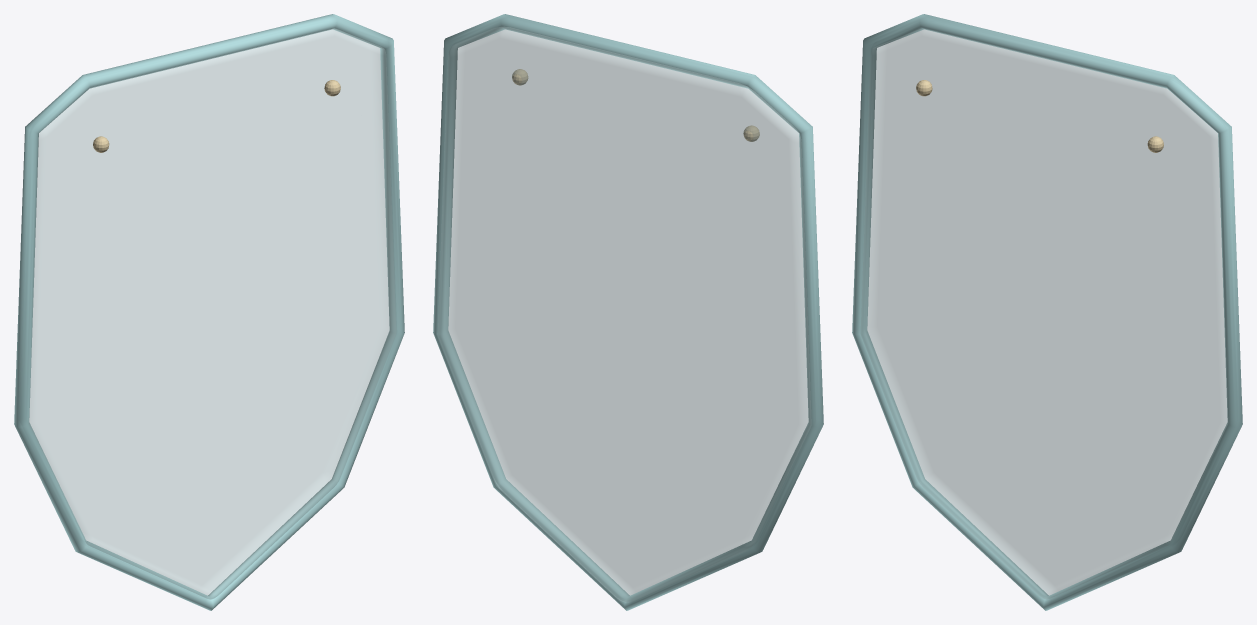
The model's file is acrylic_shield.glb.
3 renders of one model, left to right at view 1: azimuth 30°, elevation 25°; view 2: azimuth 150°, elevation 25°; view 3: azimuth 330°, elevation 25°, orthographic.
Parts seen in each view (by area): view 1: Acrylic shield clear body, Acrylic edge; view 2: Acrylic shield clear body, Acrylic edge; view 3: Acrylic shield clear body, Acrylic edge.
Part boxes in pixels (box(x1,y1,x2,y2)): Acrylic shield clear body: box(28, 28, 396, 599); Acrylic edge: box(14, 14, 404, 610); Acrylic shield clear body: box(438, 26, 811, 602); Acrylic edge: box(433, 14, 823, 610); Acrylic shield clear body: box(860, 28, 1228, 599); Acrylic edge: box(852, 14, 1242, 610).
Size of the model in its own units: 0.1511 by 0.2101 by 0.0128.
